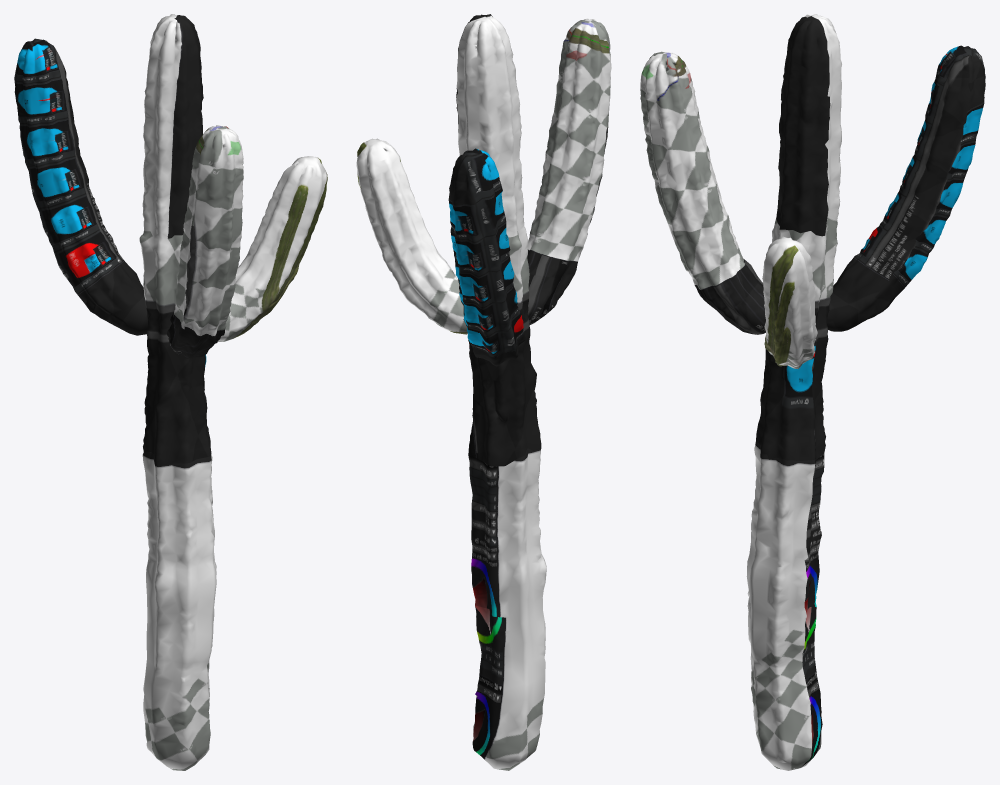
The model's file is cactus.obj.
3 renders of one model, left to right at view 1: azimuth 30°, elevation 25°; view 2: azimuth 150°, elevation 25°; view 3: azimuth 270°, elevation 25°, orthographic. The views are drawn at different scales.
Visible parts, largest first — view 1: Aset_other__M_ueopfjiga_LOD0; view 2: Aset_other__M_ueopfjiga_LOD0; view 3: Aset_other__M_ueopfjiga_LOD0.
Boxes of the visible parts, <box> form: Aset_other__M_ueopfjiga_LOD0: <box>14,14,327,770</box>; Aset_other__M_ueopfjiga_LOD0: <box>356,14,611,770</box>; Aset_other__M_ueopfjiga_LOD0: <box>640,14,985,770</box>.
Bounding box in the file's own units: 0.5025 × 1.61 × 0.6665.
